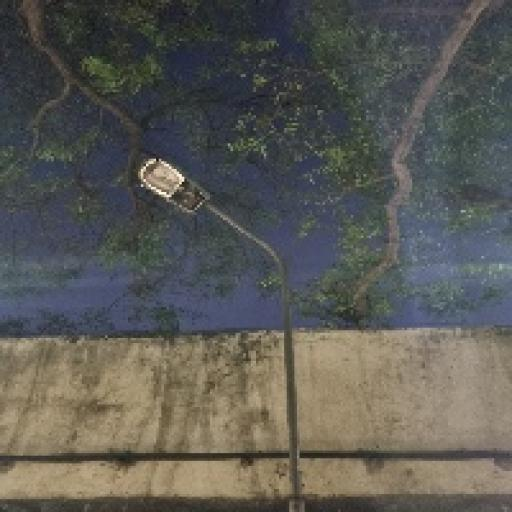Not Working: (120, 144, 224, 227)
